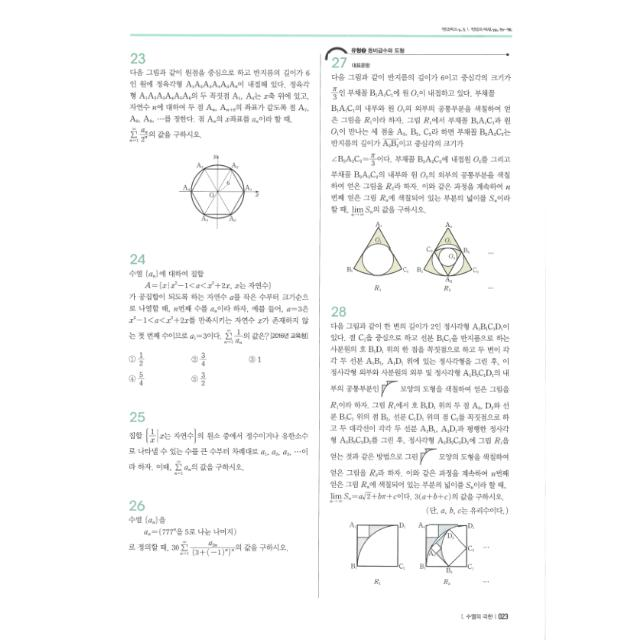multiple: (116, 241, 314, 395)
short: (322, 304, 520, 596), (322, 40, 518, 298), (116, 45, 312, 236), (119, 404, 315, 486), (118, 492, 314, 566)
